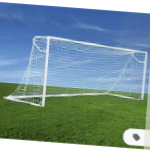goals: (3, 33, 150, 108)
